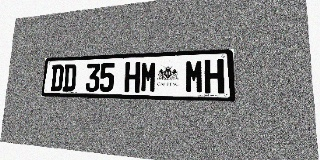3: (85, 63, 100, 92)
5: (99, 63, 115, 92)
D: (62, 64, 77, 92), (50, 64, 64, 91)
H: (204, 59, 224, 94), (124, 62, 141, 92)
M: (185, 59, 204, 93), (140, 61, 157, 93)
